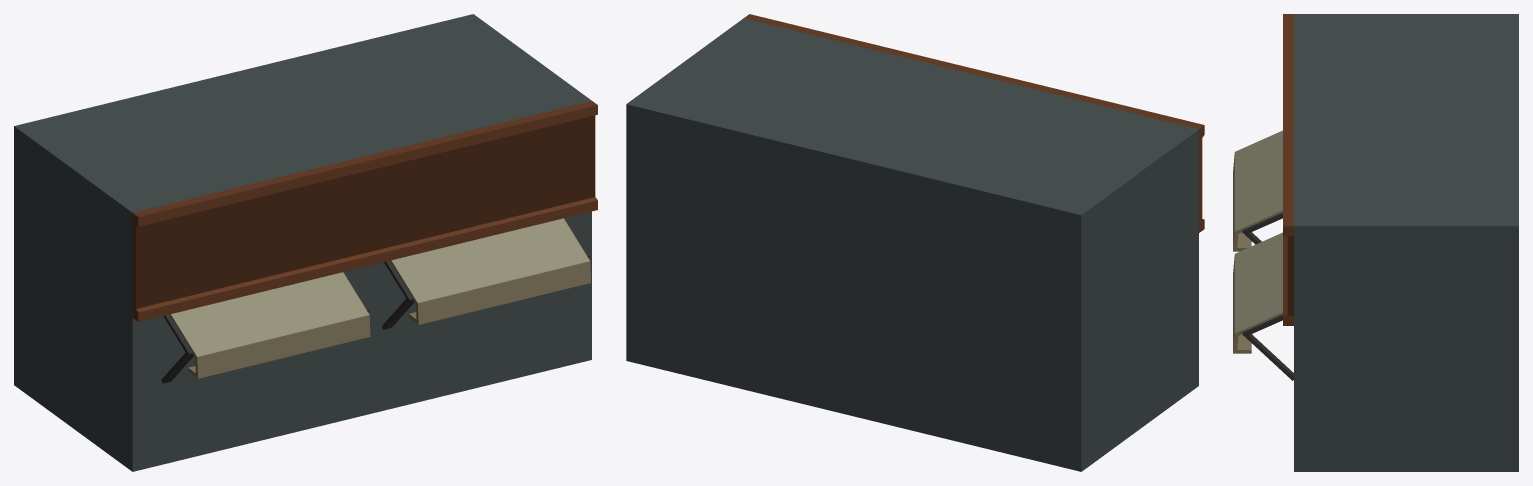
Rendered from Building1F_A.fbx.
The picture shows the model from 3 angles, left to right: view 1: azimuth 30°, elevation 25°; view 2: azimuth 150°, elevation 25°; view 3: azimuth 270°, elevation 25°; orthographic projection. The views are drawn at different scales.
Visible parts, largest first — view 1: Building1F_A; view 2: Building1F_A; view 3: Building1F_A.
Part boxes in pixels (left/top/right/bottom): Building1F_A: left=14, top=14, right=597, bottom=471; Building1F_A: left=626, top=14, right=1204, bottom=471; Building1F_A: left=1233, top=14, right=1518, bottom=471.
Bounding box in the file's own units: 320 × 172 × 182.
